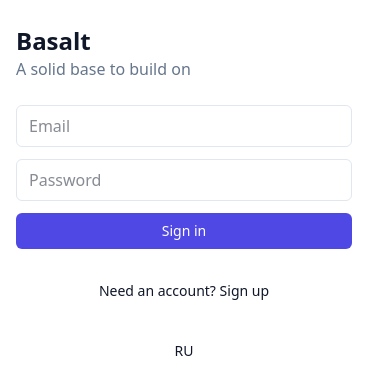
Test: LoginScreen › explains invalid credentials
The image size is (369, 389).
In the field labelled "Email": (184, 126) [16,105,352,147], type "pavel@example.com"
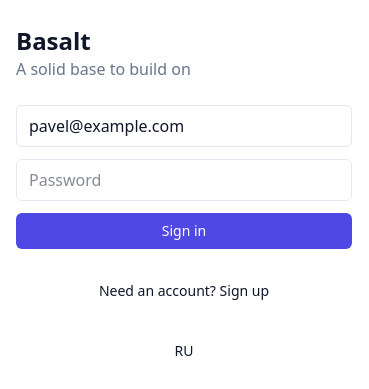
In the password field labelled "Password": (184, 180) [16,159,352,201], type "wrong-123"
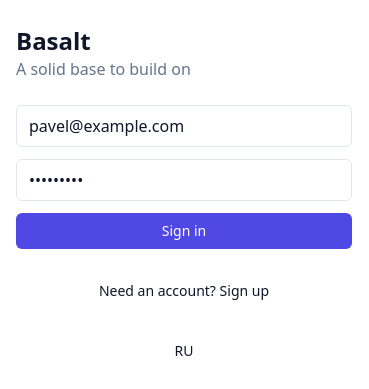
Click the button "Sign in": (184, 231) [16,213,352,249]
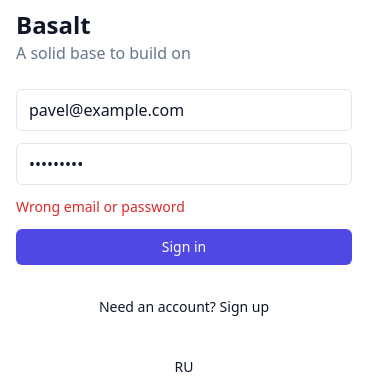
Expected: the message reads "Wrong email or password", [16,197,185,216]
